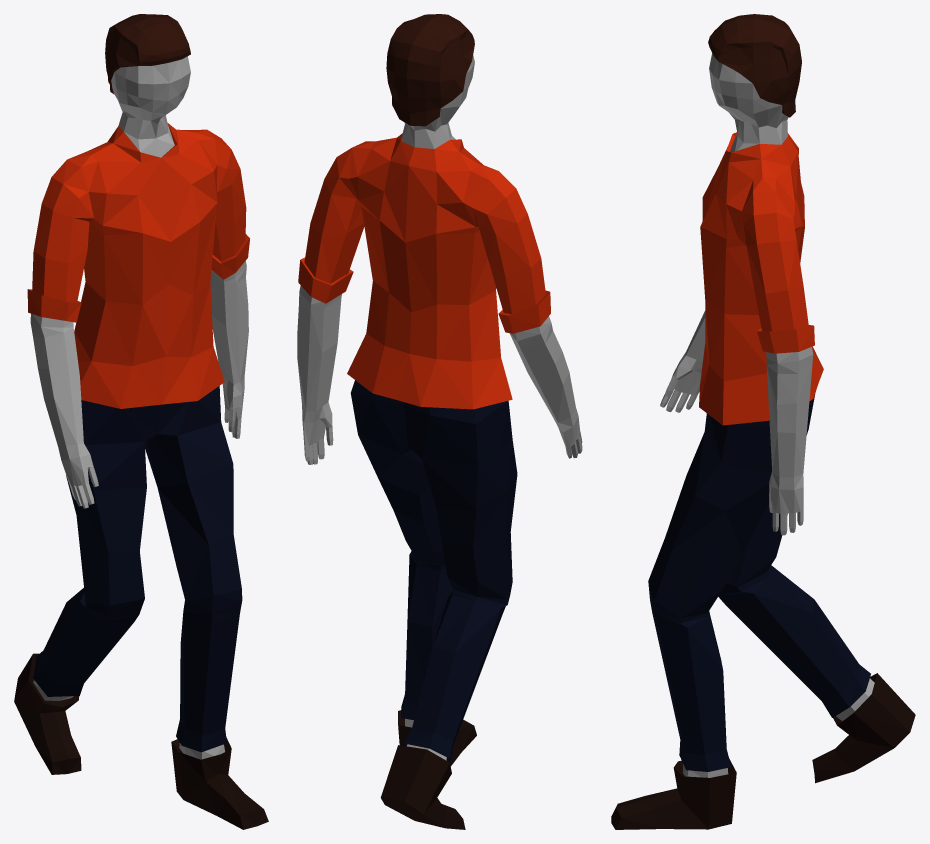
The model's file is player.obj.
3 renders of one model, left to right at view 1: azimuth 30°, elevation 25°; view 2: azimuth 150°, elevation 25°; view 3: azimuth 270°, elevation 25°, orthographic. The views are drawn at different scales.
Visible parts, largest first — view 1: Player_Cube; view 2: Player_Cube; view 3: Player_Cube.
Part boxes in pixels (bbox=[...]): Player_Cube: bbox=[14, 14, 268, 829]; Player_Cube: bbox=[297, 14, 582, 829]; Player_Cube: bbox=[611, 14, 915, 829].
Bounding box in the file's own units: 9.32 × 29.68 × 10.42.
